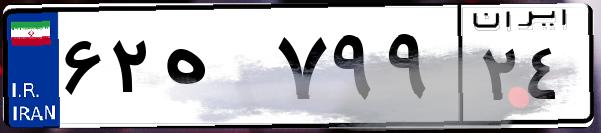2: (475, 38, 525, 113), (110, 28, 158, 98)
4: (525, 38, 570, 115)
6: (57, 26, 110, 100)
7: (270, 28, 330, 110)
9: (385, 28, 445, 110), (330, 28, 385, 110)
ه: (158, 20, 270, 120)
